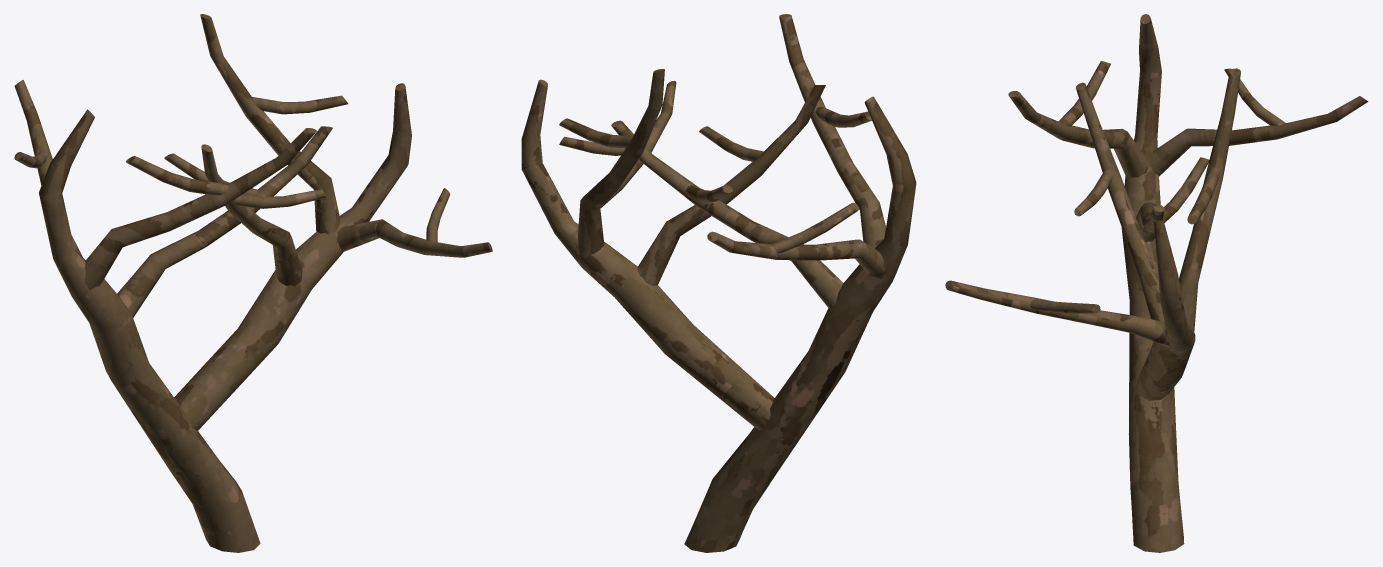
The model's file is DeadTree_GD.glb.
3 renders of one model, left to right at view 1: azimuth 30°, elevation 25°; view 2: azimuth 150°, elevation 25°; view 3: azimuth 270°, elevation 25°, orthographic. The views are drawn at different scales.
Visible parts, largest first — view 1: DeadTree_3; view 2: DeadTree_3; view 3: DeadTree_3.
Boxes of the visible parts, x1,y1,x2,y2 form: DeadTree_3: (14,14,492,552); DeadTree_3: (521,14,916,552); DeadTree_3: (945,14,1368,552).
Size of the model in its own units: 16.89 by 21.07 by 16.94.
1 material, 1 textured.
